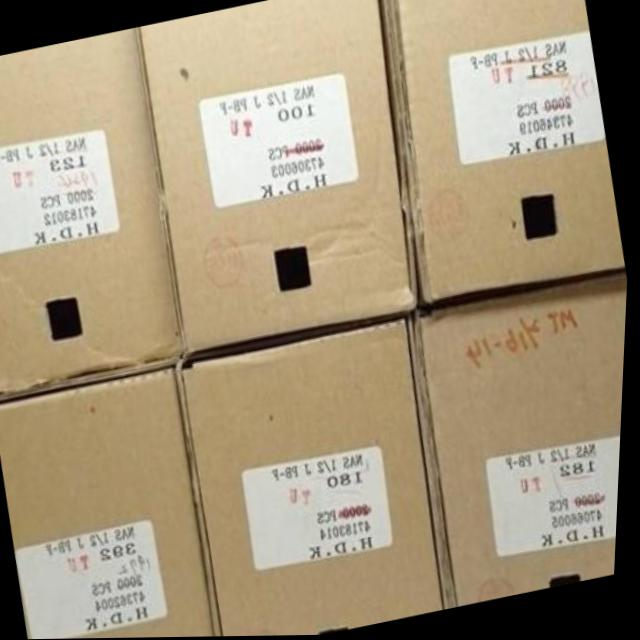box: (137, 0, 421, 357), (183, 317, 452, 637), (383, 0, 629, 312), (0, 31, 189, 403), (416, 281, 630, 607), (0, 368, 227, 639)
